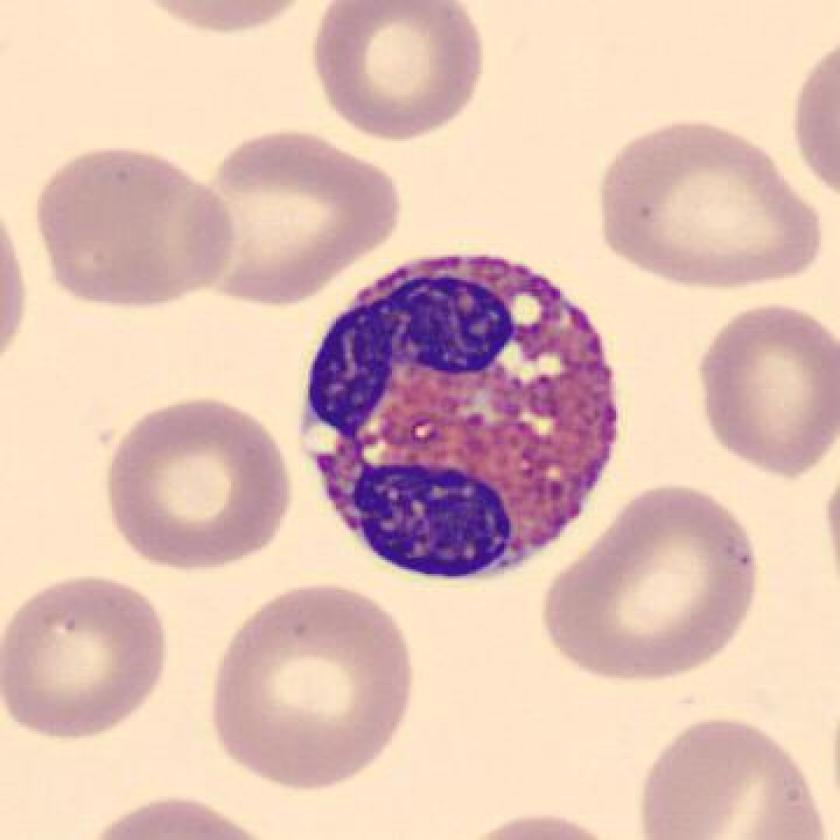eosinophil: (290, 239, 631, 591)
